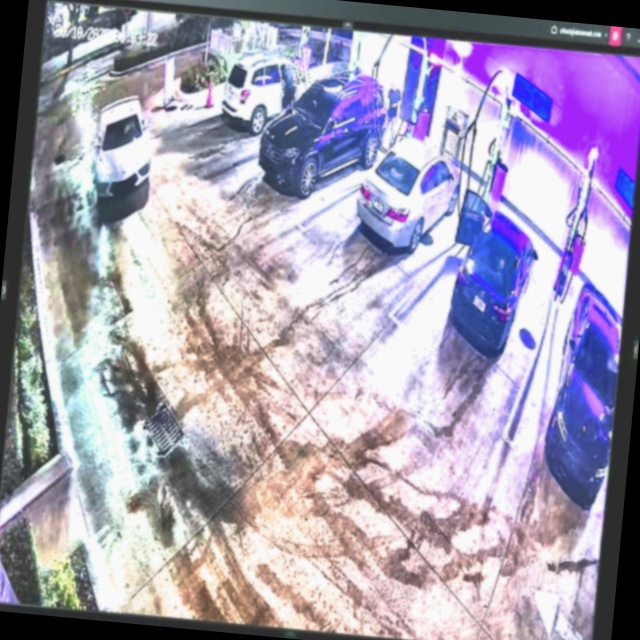Car: (258, 66, 391, 204), (447, 186, 544, 352), (355, 134, 465, 254), (92, 93, 157, 203)
